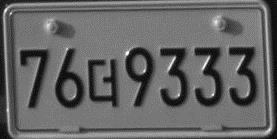3: (192, 46, 224, 106), (228, 44, 258, 107), (158, 46, 188, 106)
6: (52, 46, 86, 110)
7: (18, 46, 48, 110)
9: (124, 46, 154, 108)
더: (85, 57, 120, 108)
